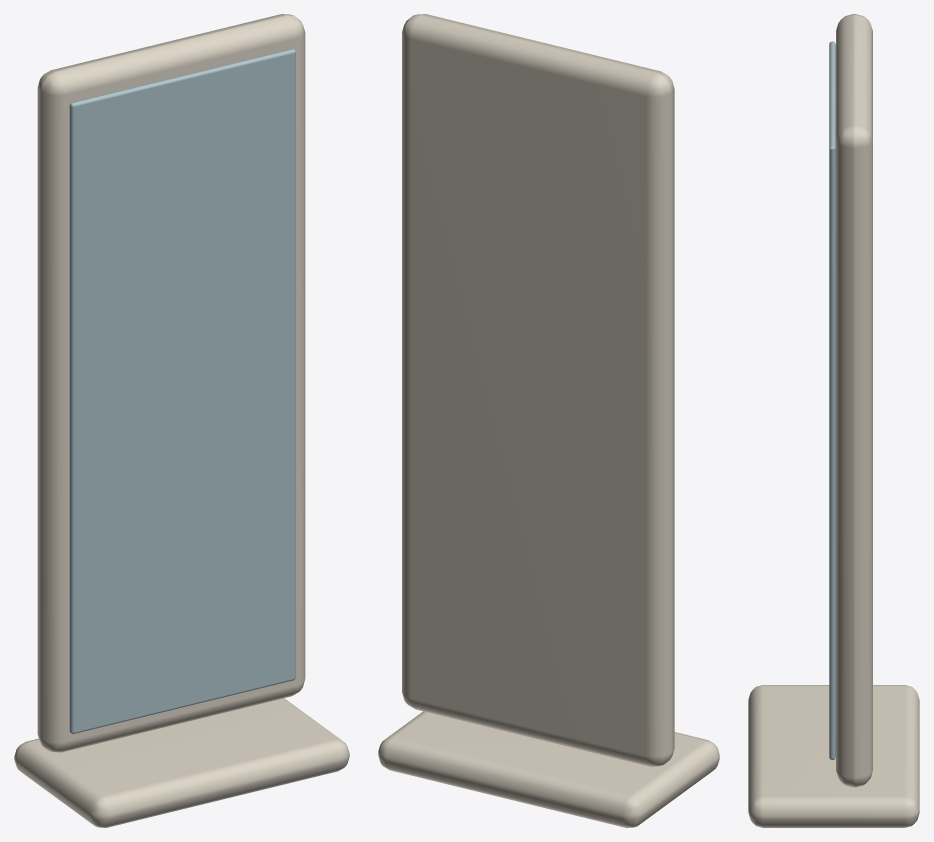
Rendered from cl_mirror.glb.
The picture shows the model from 3 angles, left to right: view 1: azimuth 30°, elevation 25°; view 2: azimuth 150°, elevation 25°; view 3: azimuth 270°, elevation 25°; orthographic projection. The views are drawn at different scales.
Visible parts, largest first — view 1: prop; view 2: prop; view 3: prop.
Boxes of the visible parts, bbox=[...] form: prop: bbox=[14, 14, 349, 827]; prop: bbox=[378, 14, 719, 827]; prop: bbox=[748, 14, 919, 827].
Size of the model in its own units: 0.79 by 2.08 by 0.4598.
